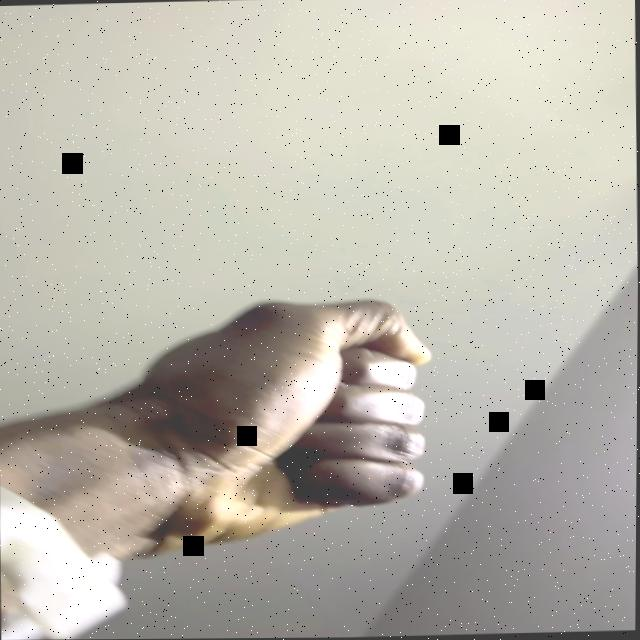Rock: (134, 294, 437, 550)
